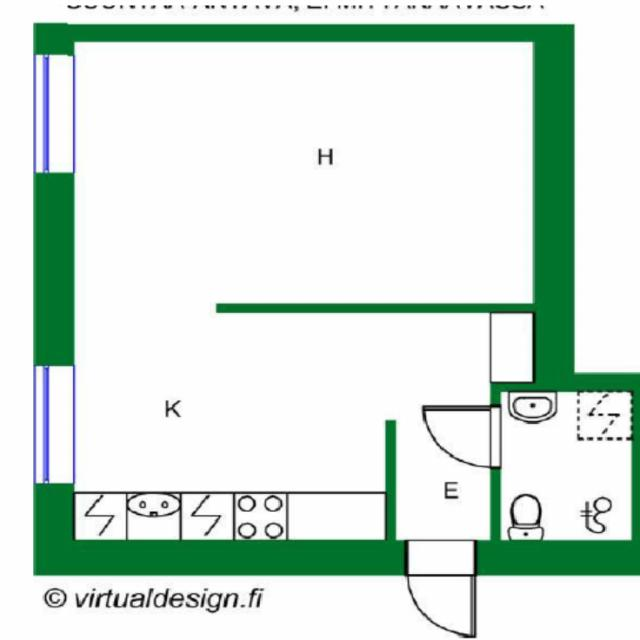door: (406, 538, 476, 638), (419, 406, 500, 468)
